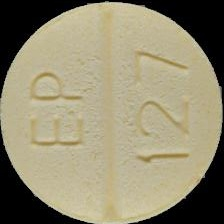64125-127: (0, 0, 224, 224)
